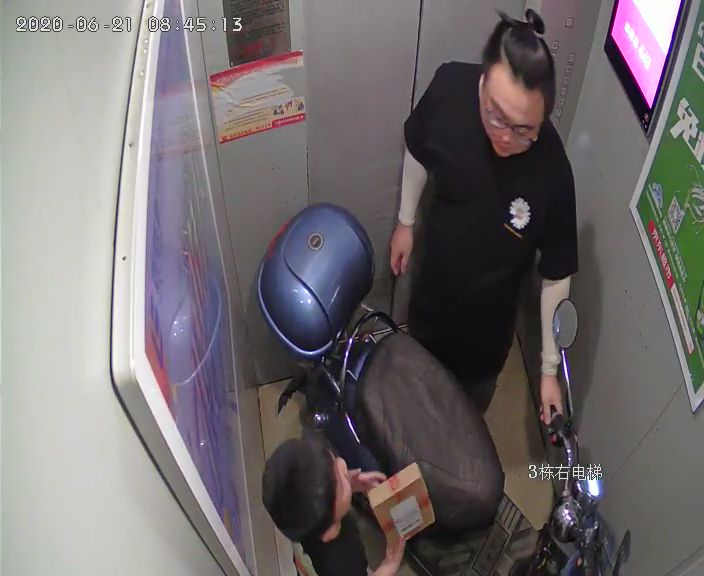Electric-bicycle: (257, 209, 633, 576)
